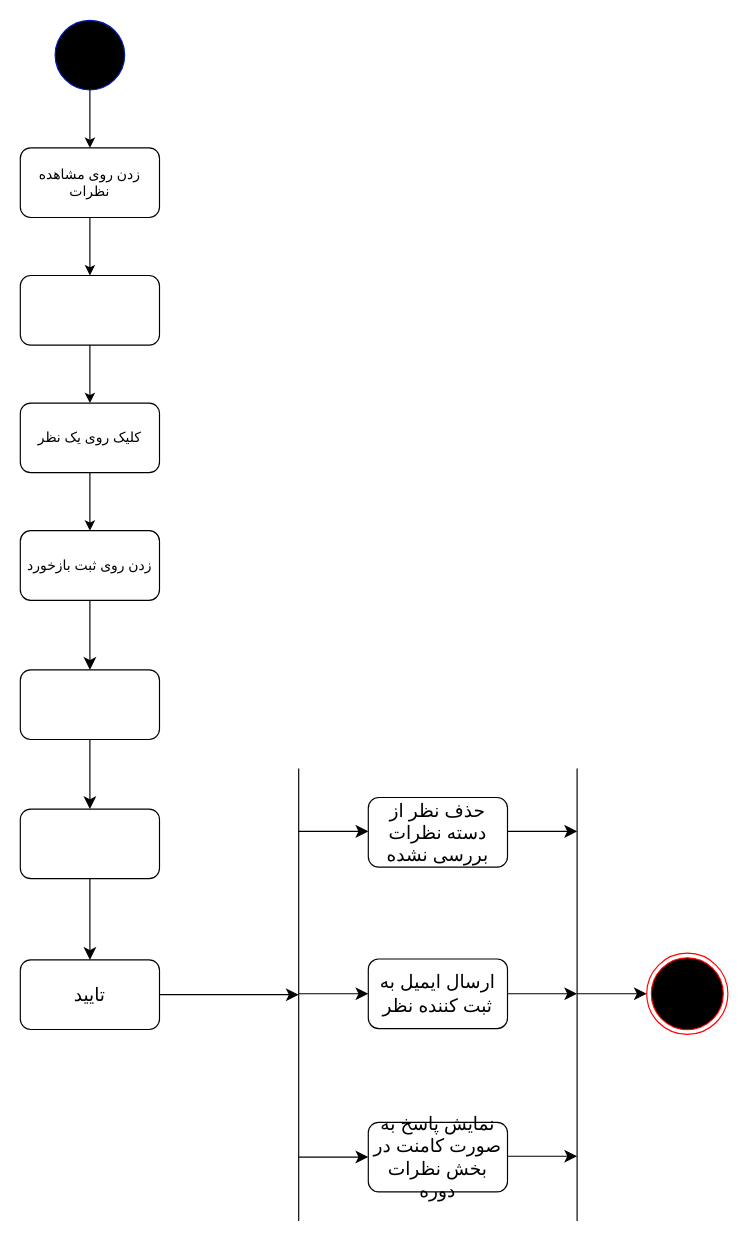
The diagram is 748 pixels wide and 1242 high, and some of its shapes have lost their labels. The centre of each missing label's shape, as x and y in pixels:
باز شدن تکست باکس: (89,704)
نمایش نظرات ثبت شده روی دوره های تعریف شده توسط استاد: (89,309)
نوشتن نظر: (89,843)
